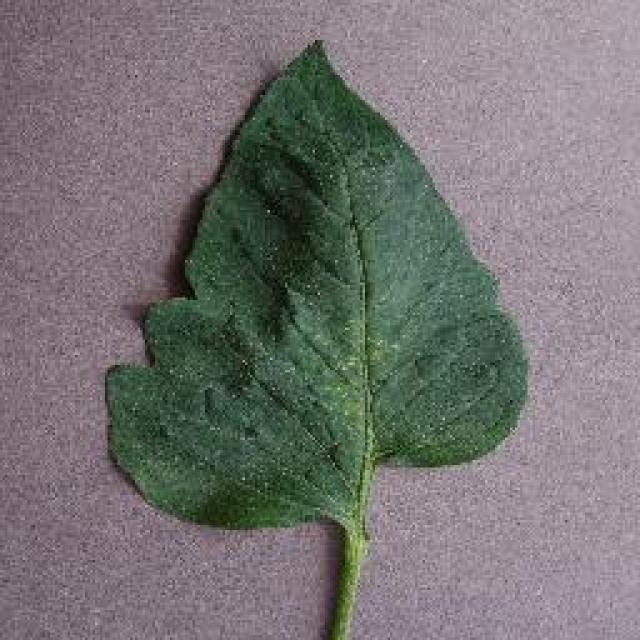Tomato___Spider_mites Two-spotted_spider_mite: (105, 42, 525, 638)
